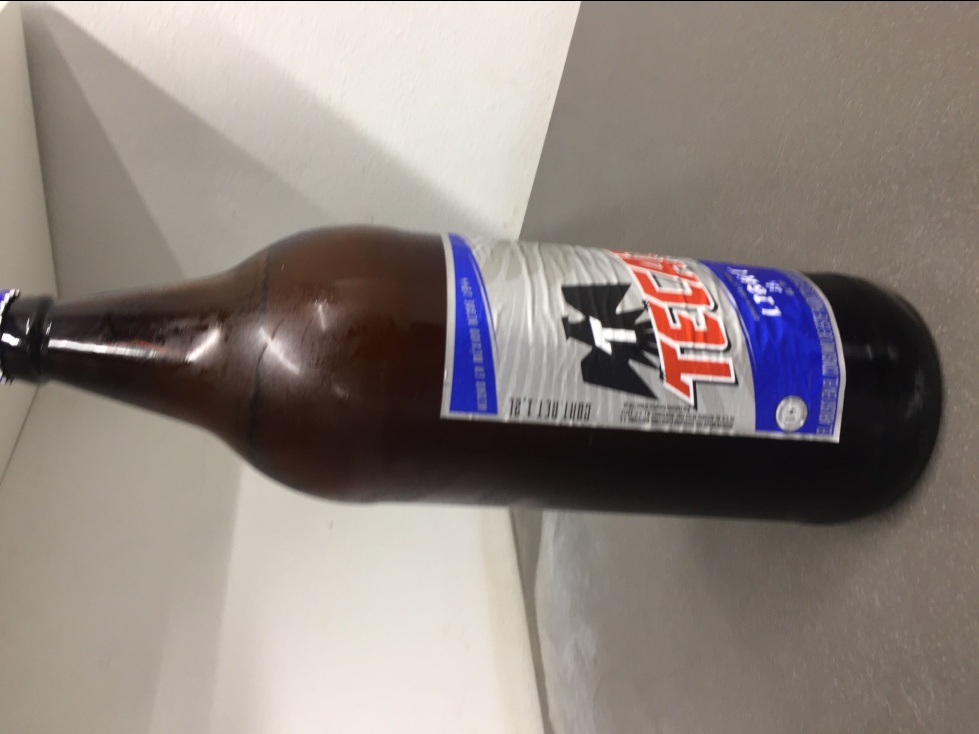tecateC: (6, 220, 943, 526)
